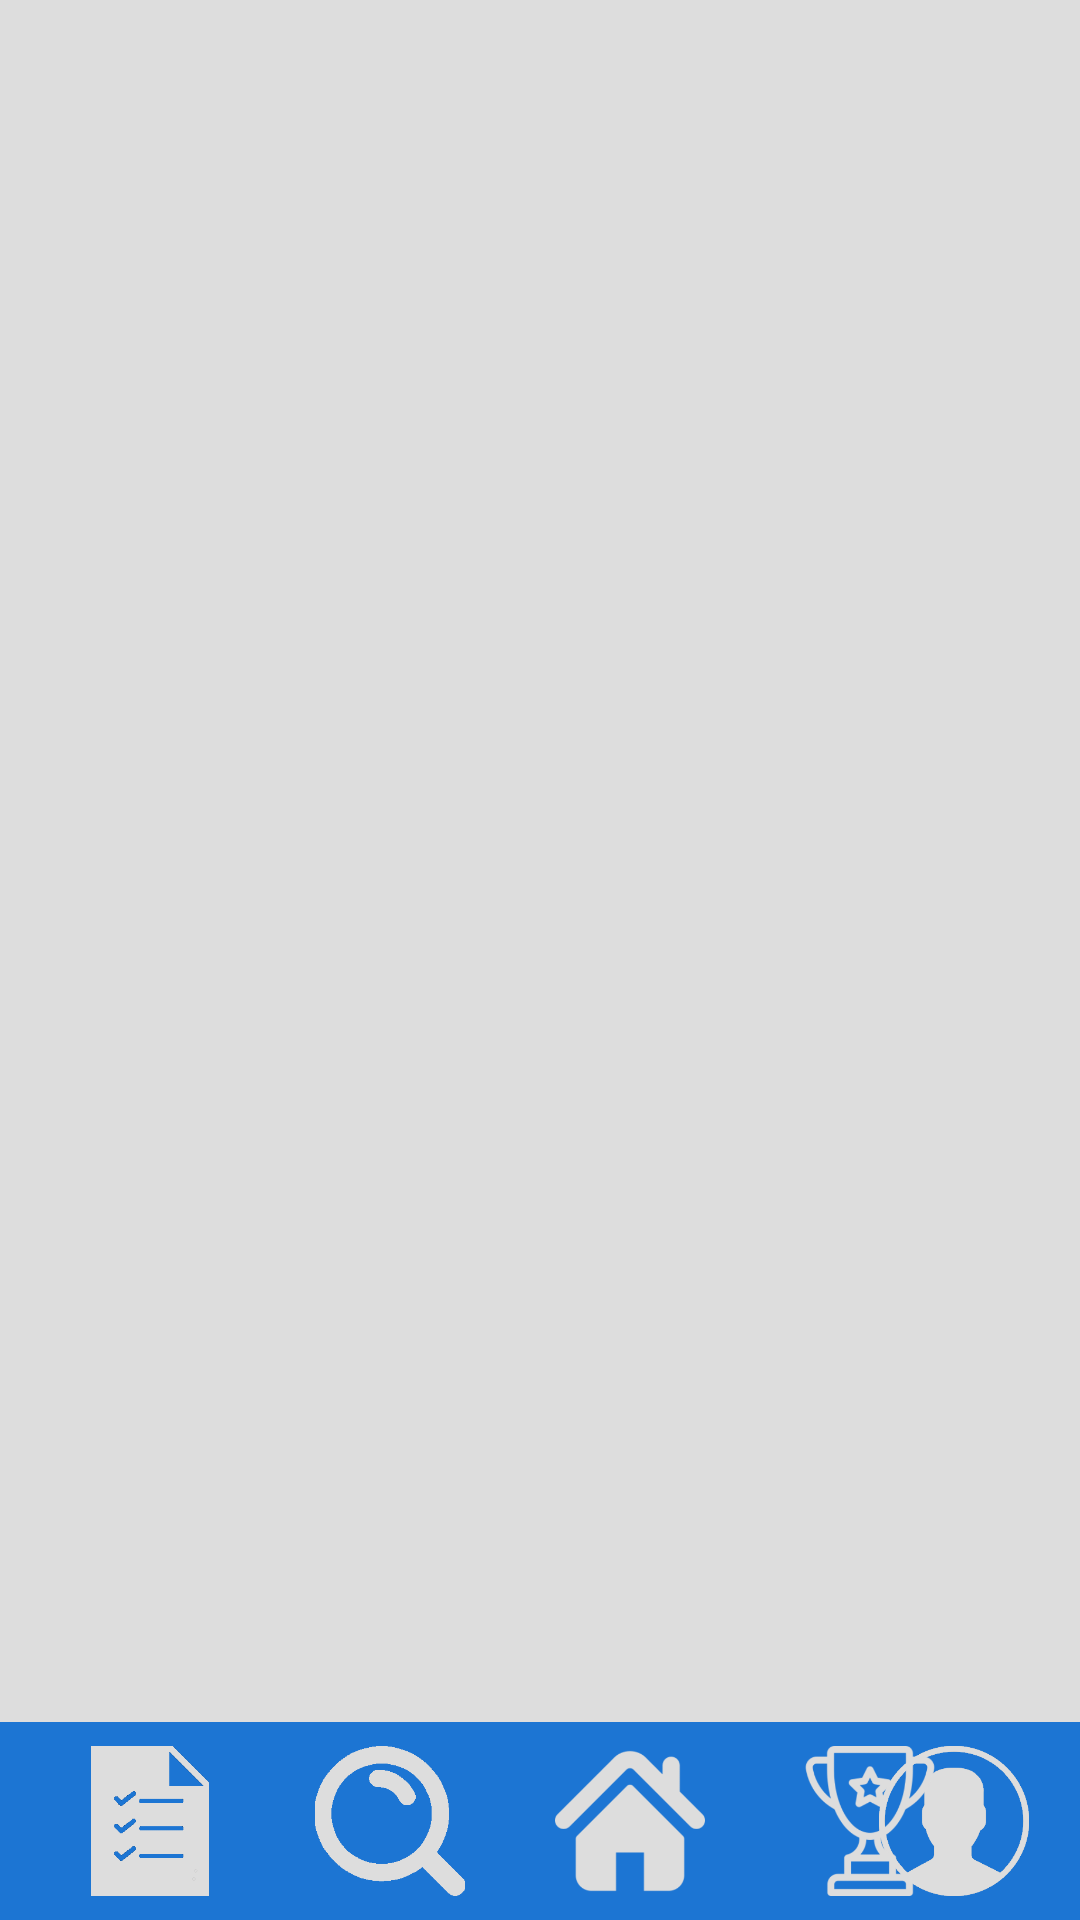

Named icons in this screenshot (1080 x 1920) and their bounding boxes, BBox(x1, y1, x2, y2):
hom eico nsilhouette: BBox(555, 1751, 705, 1891)
list: BBox(91, 1746, 209, 1896)
magnifying glass finder: BBox(315, 1746, 465, 1896)
